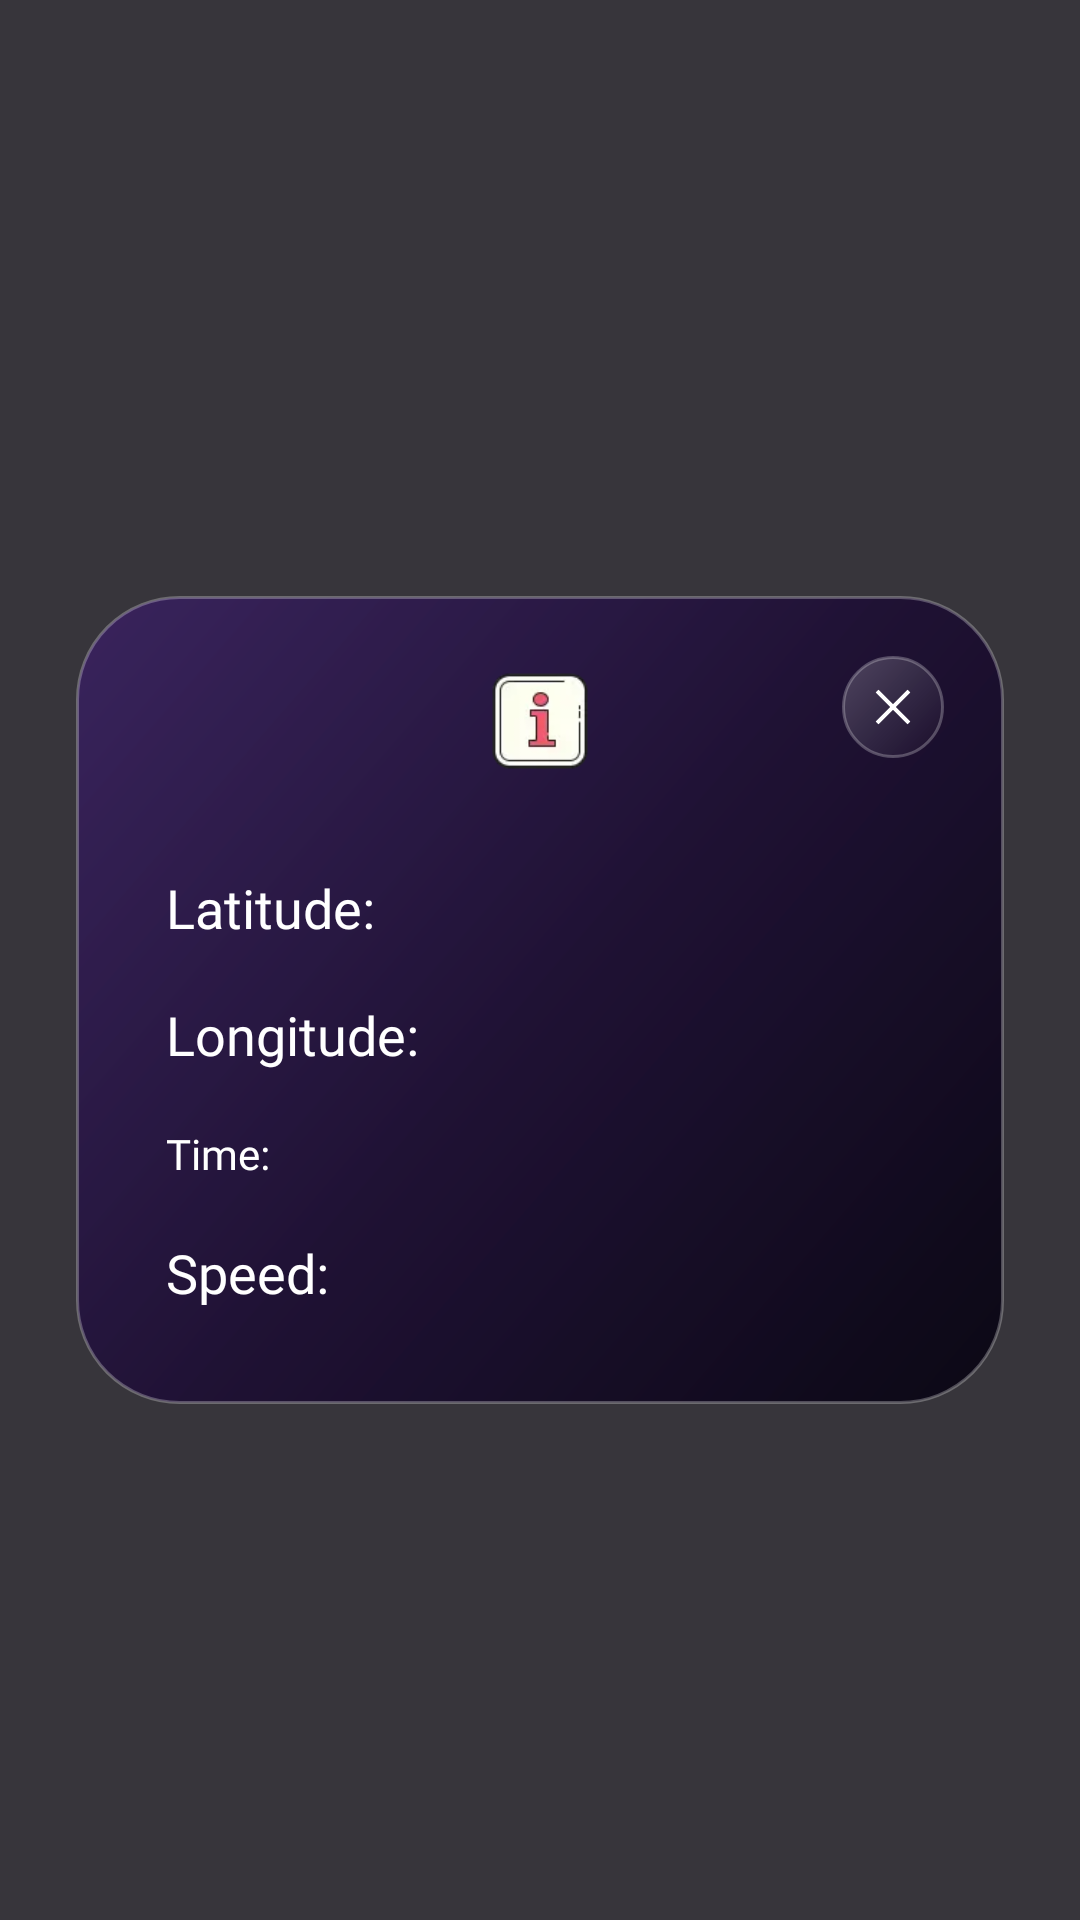

Screen size 1080*1920. Icon name, then its box in pixels as (x1, y1, x2, y2):
close: (842, 656, 944, 758)
information: (494, 675, 587, 768)
